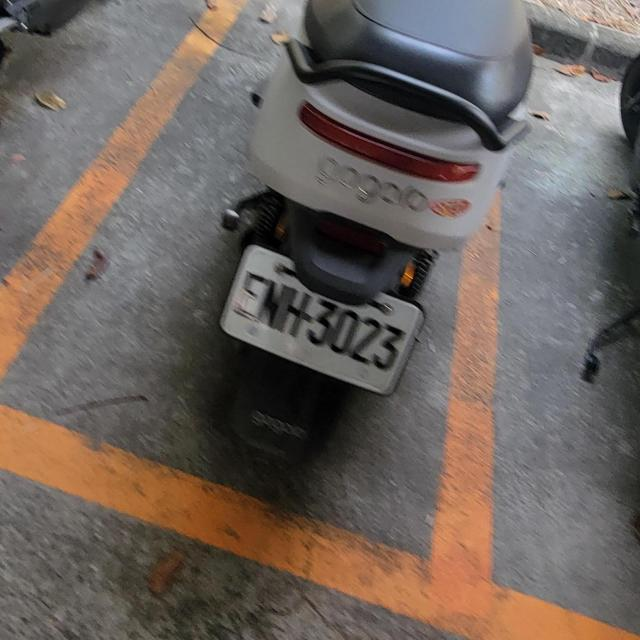W: (200, 240, 435, 404)
